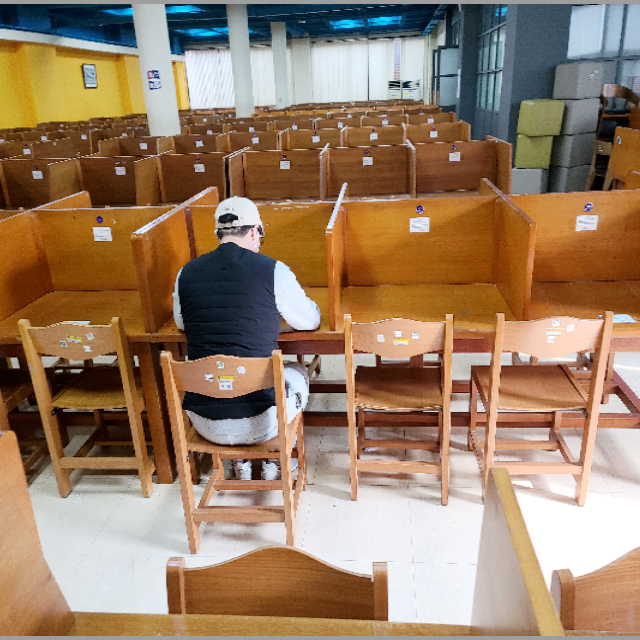empty: (331, 200, 527, 399), (538, 191, 640, 389)
full: (139, 186, 320, 435)
